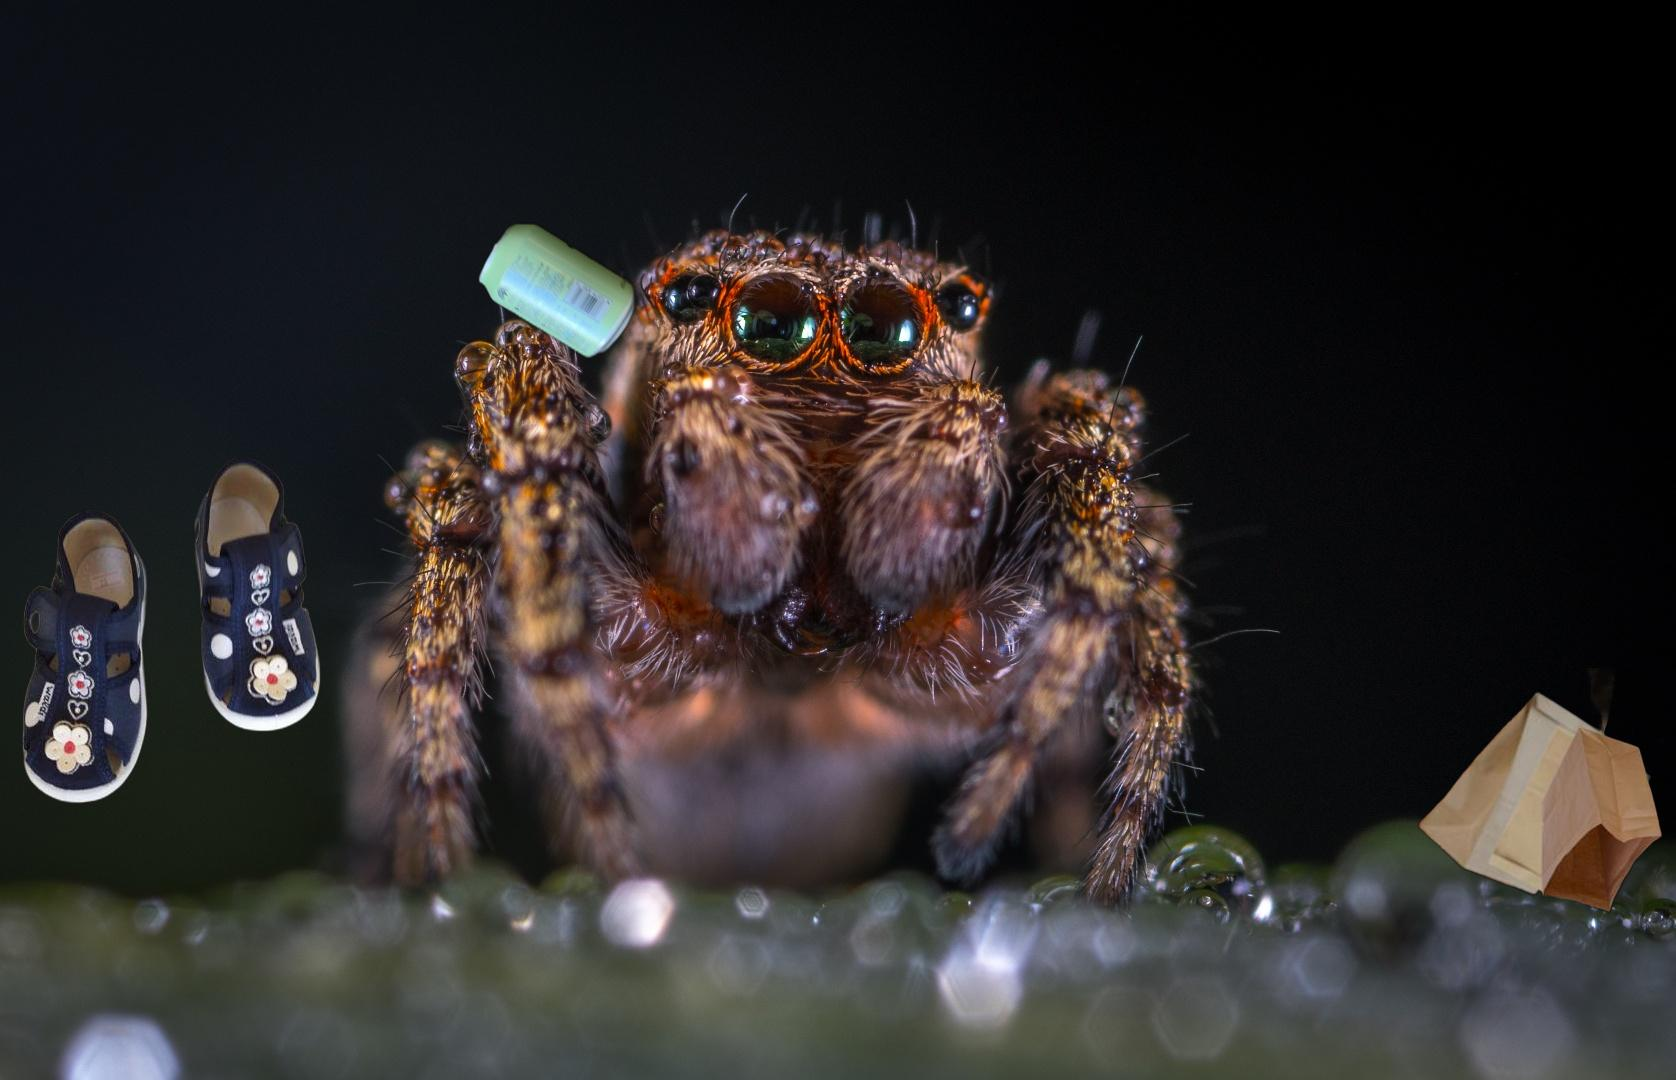metal-cans: (474, 217, 639, 365)
paper-bag: (1416, 668, 1667, 965)
shoes: (20, 382, 324, 808)
